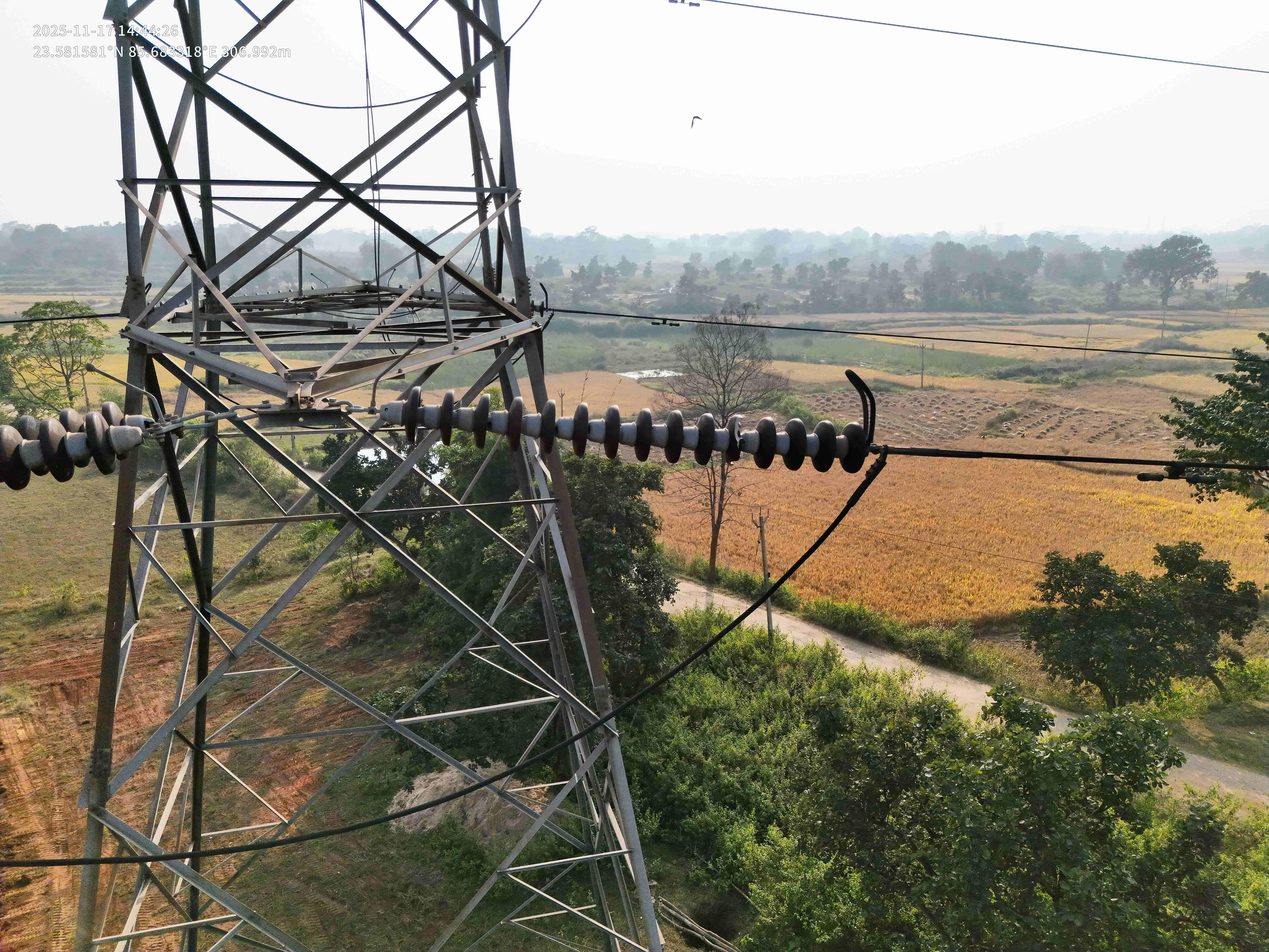broken_insulator: (723, 412, 748, 467)
